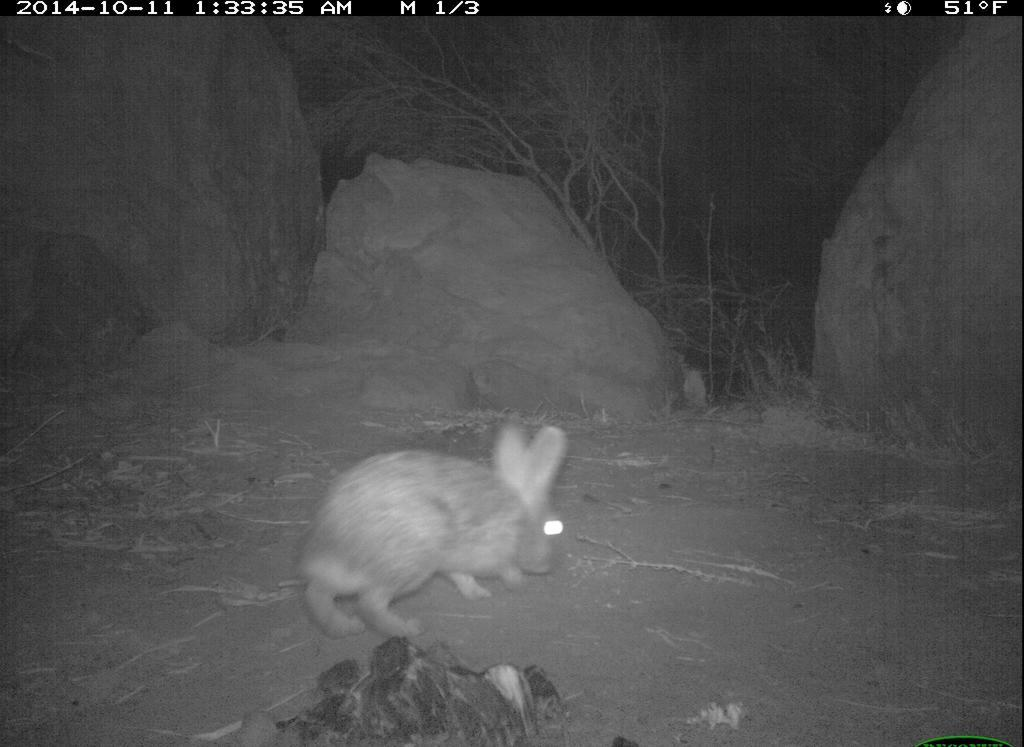rabbit: (296, 415, 587, 638)
